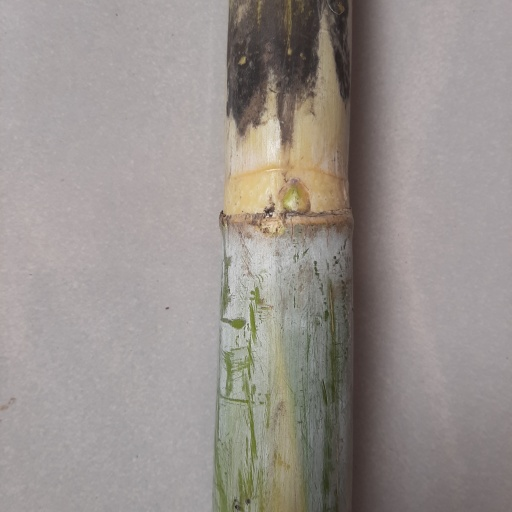Bud: (276, 176, 310, 214)
